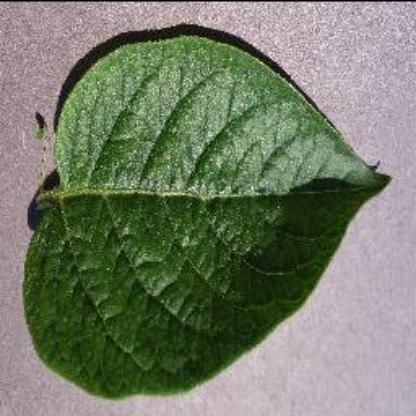Healthy-plant: (25, 10, 378, 404)
